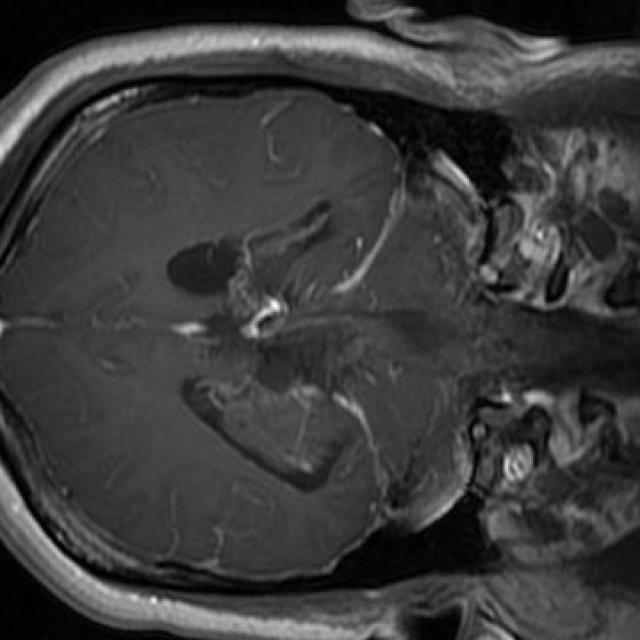glioma: (166, 201, 447, 494)
